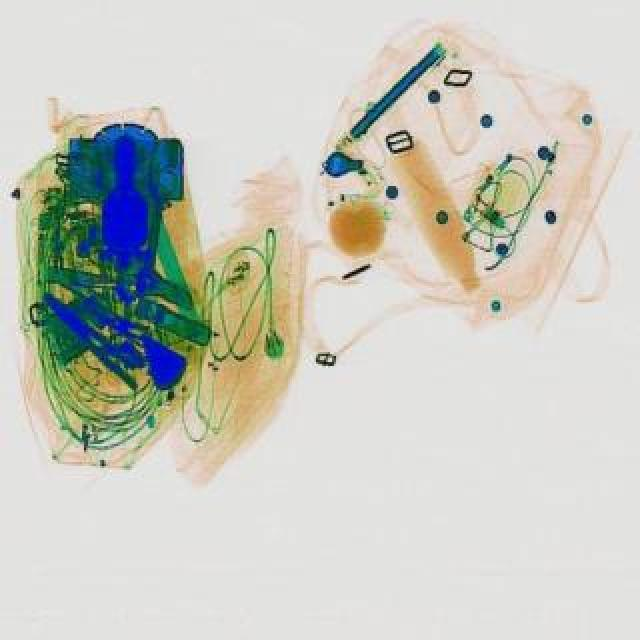wrench: (36, 292, 148, 394)
